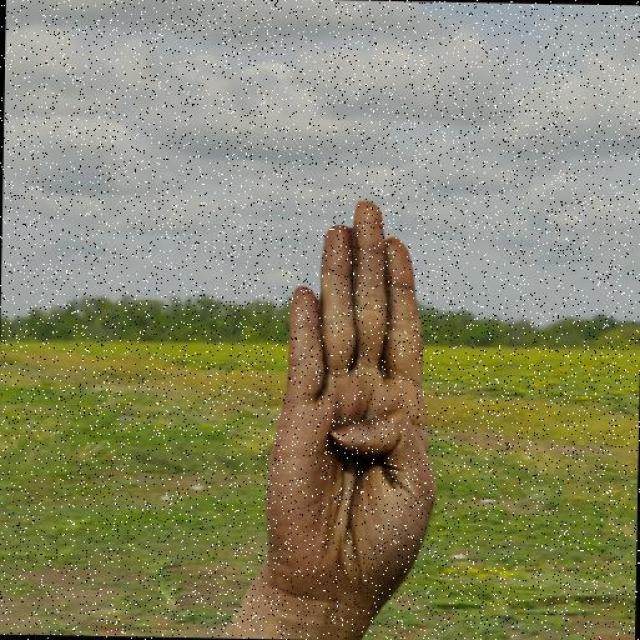B: (262, 188, 444, 616)
